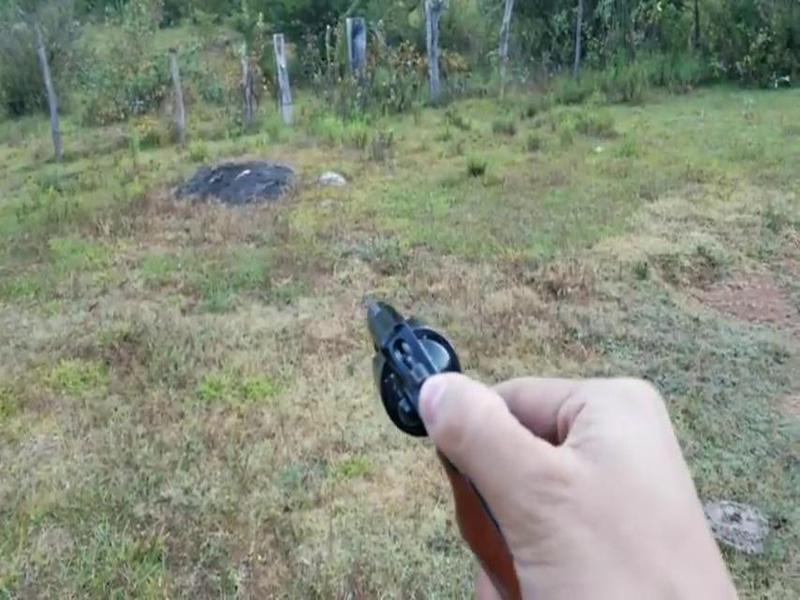Revolver: (353, 282, 537, 556)
